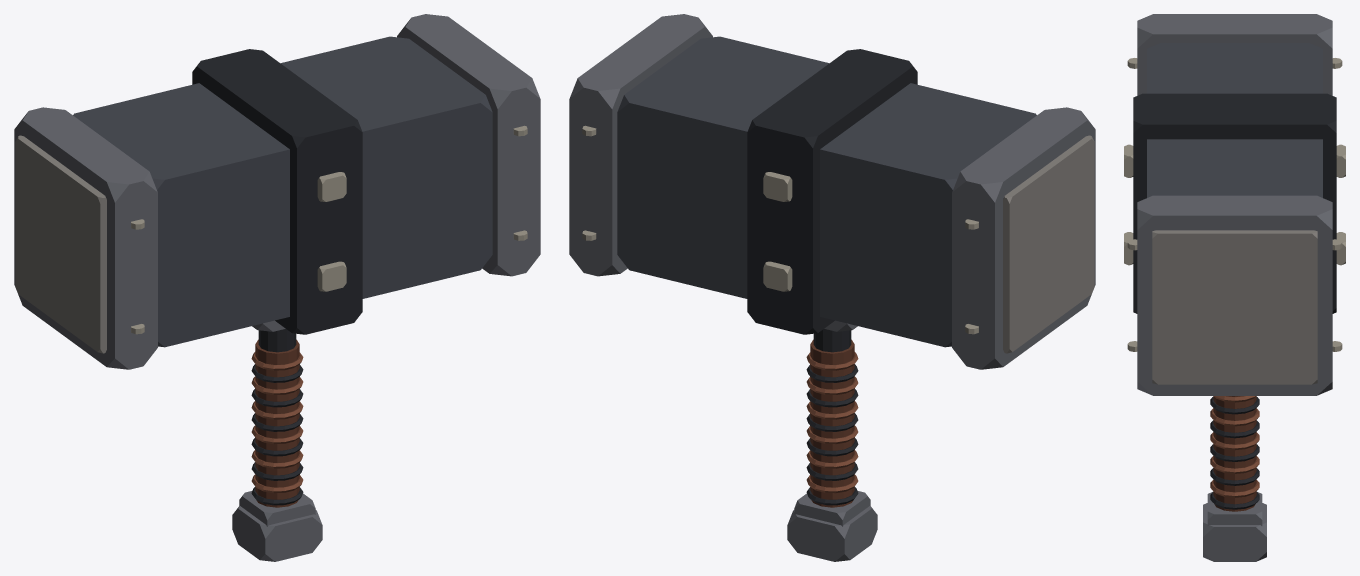
The model's file is Heavy_Hammer.obj.
The picture shows the model from 3 angles, left to right: view 1: azimuth 30°, elevation 25°; view 2: azimuth 150°, elevation 25°; view 3: azimuth 270°, elevation 25°; orthographic projection. The views are drawn at different scales.
Visible parts, largest first — view 1: Head_Main, Center_Brace, Impact_Cap_Left, Impact_Face_Left, Impact_Cap_Right, Grip_Leather, Pommel, Grip_Bottom_Ring, Brace_Bolt_0.66_2.05, Brace_Bolt_0.66_2.65, Handle_Core; view 2: Head_Main, Center_Brace, Impact_Cap_Left, Impact_Face_Left, Impact_Cap_Right, Grip_Leather, Pommel, Grip_Bottom_Ring, Brace_Bolt_-0.66_2.05, Brace_Bolt_-0.66_2.65, Handle_Core; view 3: Impact_Face_Right, Head_Main, Impact_Cap_Right, Center_Brace, Impact_Cap_Left, Grip_Leather, Pommel, Grip_Bottom_Ring, Grip_Wrap_04, Grip_Wrap_05, Grip_Wrap_02, Grip_Wrap_06 (+7 smaller).
Part boxes in pixels (left/top/right/bottom): Head_Main: left=73, top=36, right=492, bottom=347; Center_Brace: left=192, top=49, right=362, bottom=334; Impact_Cap_Left: left=14, top=107, right=157, bottom=369; Impact_Face_Left: left=15, top=135, right=106, bottom=353; Impact_Cap_Right: left=397, top=14, right=540, bottom=276; Grip_Leather: left=255, top=339, right=299, bottom=507; Pommel: left=232, top=506, right=322, bottom=561; Grip_Bottom_Ring: left=239, top=490, right=315, bottom=526; Brace_Bolt_0.66_2.05: left=317, top=261, right=346, bottom=291; Brace_Bolt_0.66_2.65: left=317, top=172, right=346, bottom=201; Handle_Core: left=258, top=329, right=296, bottom=352; Head_Main: left=617, top=36, right=1036, bottom=347; Center_Brace: left=747, top=49, right=917, bottom=334; Impact_Cap_Left: left=952, top=107, right=1095, bottom=369; Impact_Face_Left: left=1003, top=135, right=1094, bottom=353; Impact_Cap_Right: left=569, top=14, right=712, bottom=276; Grip_Leather: left=810, top=339, right=854, bottom=507; Pommel: left=787, top=506, right=877, bottom=561; Grip_Bottom_Ring: left=794, top=490, right=870, bottom=526; Brace_Bolt_-0.66_2.05: left=763, top=261, right=792, bottom=291; Brace_Bolt_-0.66_2.65: left=763, top=172, right=792, bottom=201; Handle_Core: left=813, top=329, right=851, bottom=352; Impact_Face_Right: left=1152, top=230, right=1317, bottom=384; Head_Main: left=1147, top=43, right=1322, bottom=197; Impact_Cap_Right: left=1137, top=195, right=1332, bottom=395; Center_Brace: left=1133, top=93, right=1336, bottom=313; Impact_Cap_Left: left=1137, top=14, right=1332, bottom=95; Grip_Leather: left=1213, top=396, right=1256, bottom=511; Pommel: left=1203, top=503, right=1266, bottom=561; Grip_Bottom_Ring: left=1207, top=492, right=1262, bottom=525; Grip_Wrap_04: left=1210, top=456, right=1259, bottom=473; Grip_Wrap_05: left=1210, top=444, right=1259, bottom=461; Grip_Wrap_02: left=1210, top=480, right=1259, bottom=497; Grip_Wrap_06: left=1210, top=432, right=1259, bottom=450.
Size of the model in its own units: 3.08 by 3.02 by 1.38.
